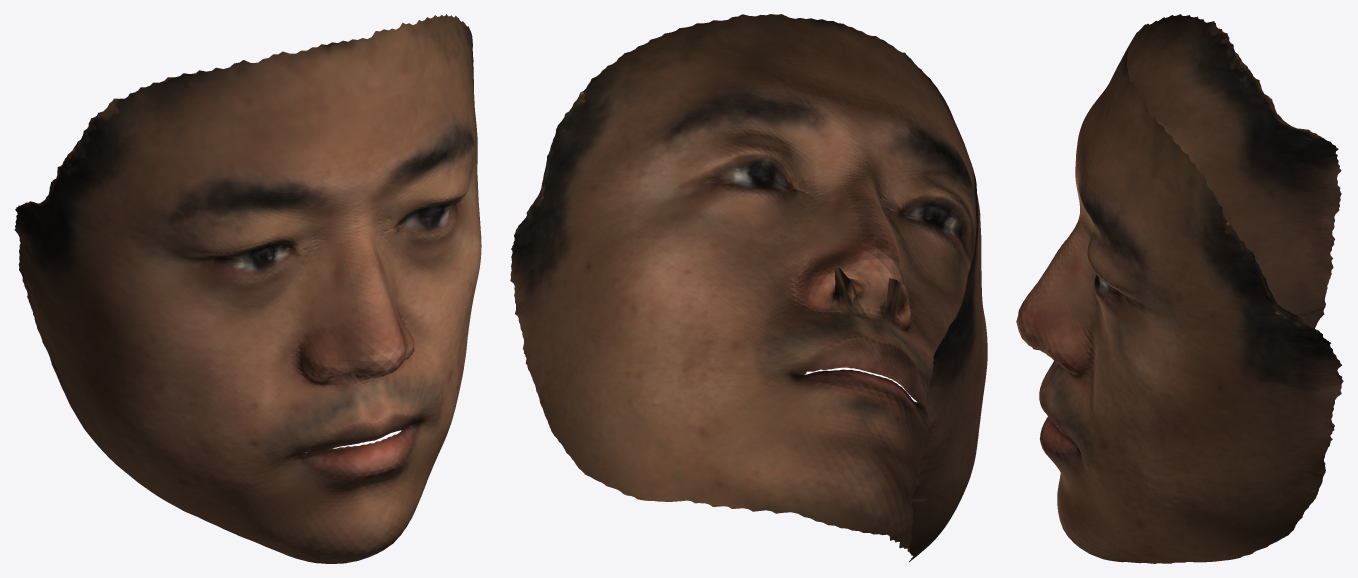
Rendered from predicted_face.obj.
3 views of the same model, side by side, from view 1: azimuth 30°, elevation 25°; view 2: azimuth 150°, elevation 25°; view 3: azimuth 270°, elevation 25° (orthographic). The views are drawn at different scales.
Size of the model in its own units: 1.48 by 1.72 by 1.04.
